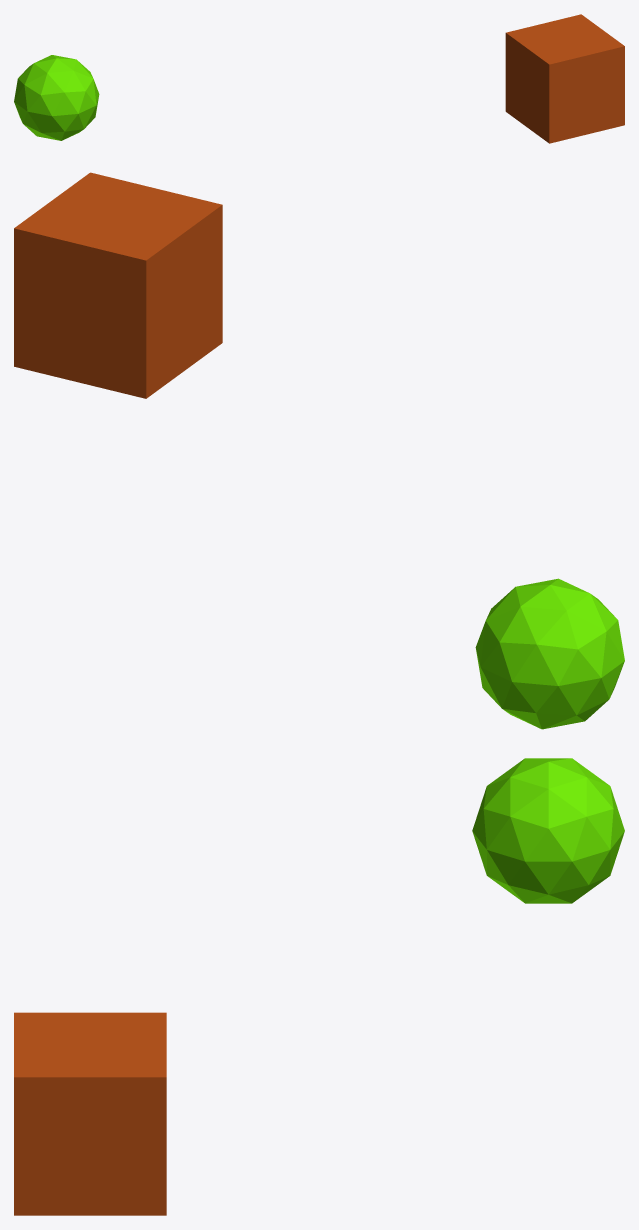
File: PlaneWithObjects.glb
3 views of the same model, one above another, from view 1: azimuth 30°, elevation 25°; view 2: azimuth 150°, elevation 25°; view 3: azimuth 270°, elevation 25° (orthographic). The views are drawn at different scales.
Parts seen in each view (by area): view 1: Cube, Icosphere; view 2: Cube, Icosphere; view 3: Cube, Icosphere.
Part boxes in pixels (x1,y1,x2,y2): Cube: (505,14,624,143); Icosphere: (14,55,99,140); Cube: (14,172,222,398); Icosphere: (475,578,624,729); Cube: (14,1012,166,1215); Icosphere: (472,758,624,903).
Size of what is drawn, in the model's own units: 11.95 by 2.57 by 8.
